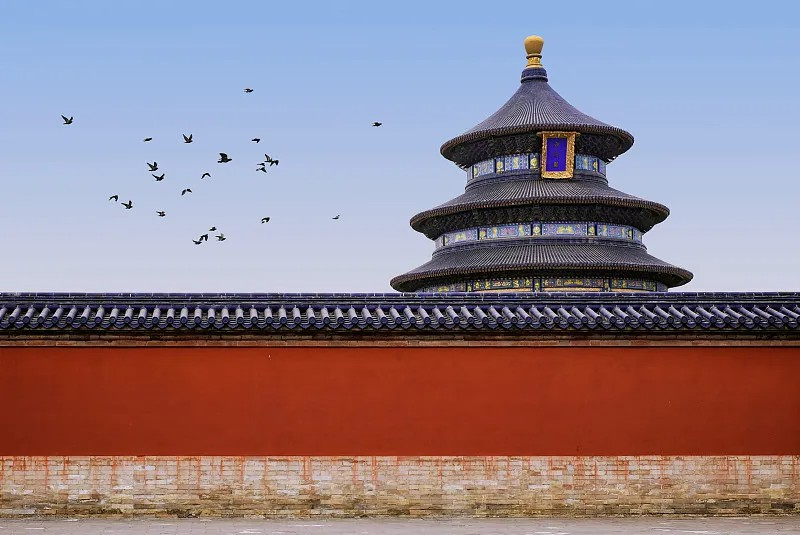Heaven: (389, 36, 694, 291)
